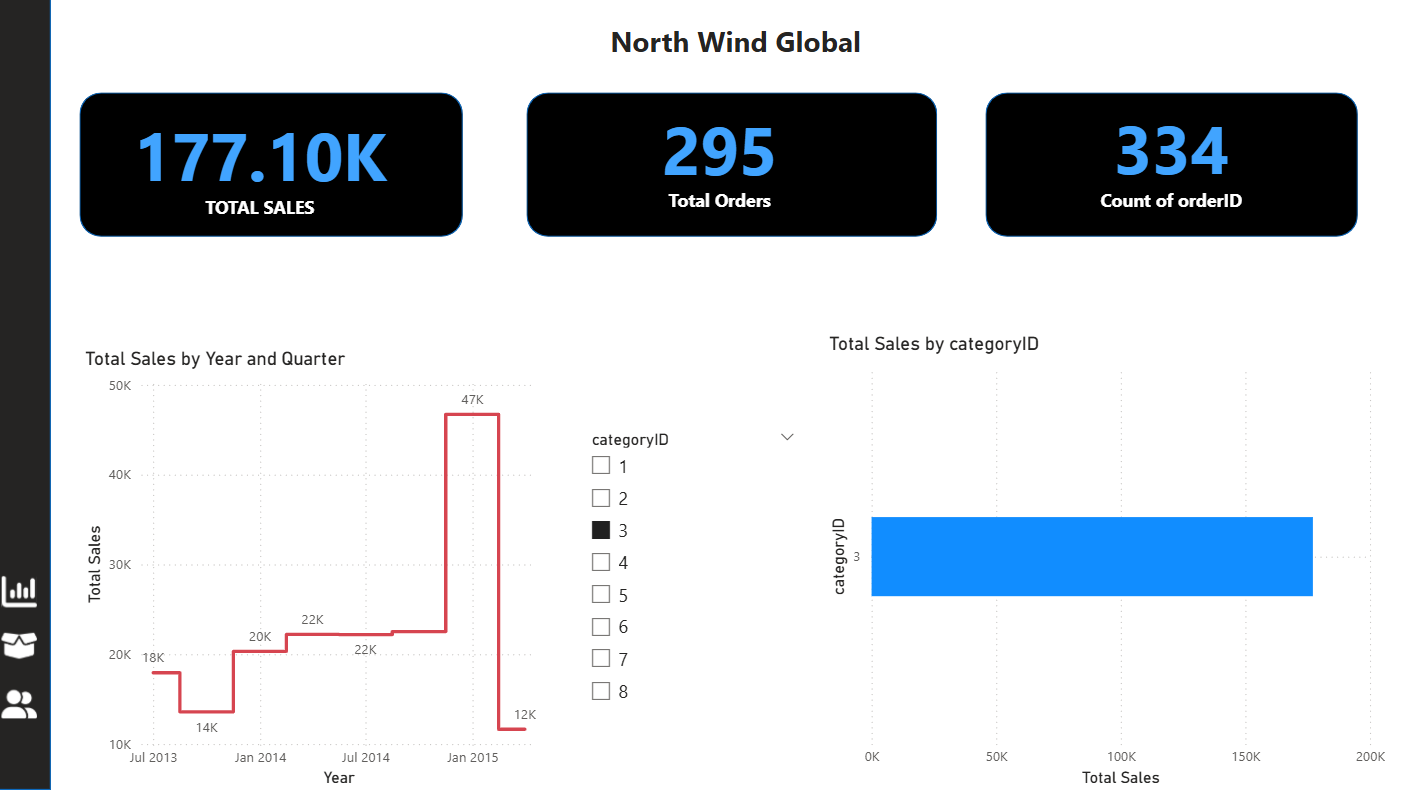

Layout of this report page (visuals, bound fields, positions):
{"tool":"powerbi","page":{"name":"Sales Overview","canvas":[1280,720],"ordinal":0},"visuals":[{"type":"shape","box":[75,90,345.5,130],"z":0,"group":"g1"},{"type":"lineChart","fields":{"Category":["orders.orderDate.Variation.Date Hierarchy.Year","orders.orderDate.Variation.Date Hierarchy.Quarter","orders.orderDate.Variation.Date Hierarchy.Month","orders.orderDate.Variation.Date Hierarchy.Day"],"Y":["order details.Total Sales"]},"box":[75,320,430,400],"z":0},{"type":"shape","box":[478.1,90,370.2,130],"z":1000,"group":"g1"},{"type":"barChart","fields":{"Category":["categories.categoryID"],"Y":["order details.Total Sales"]},"box":[744.4,307.4,511.1,413],"z":1000},{"type":"shape","box":[0,0,48.6,720],"z":2000},{"type":"shape","box":[891,90,335.6,130],"z":2000,"group":"g1"},{"type":"textbox","title":"North Wind Global","box":[484.4,26.7,363.3,38.9],"z":3000},{"type":"group","id":"g1","title":"KPI'S","box":[75,90,1151.7,130],"z":4000},{"type":"card","fields":{"Values":["order details.Total Sales"]},"box":[108.3,83.3,256.7,141.7],"z":5000},{"type":"card","fields":{"Values":["order details.Total Orders"]},"box":[493.3,65,315,168.3],"z":6000},{"type":"card","fields":{"Values":["CountNonNull(order details.orderID)"]},"box":[925,60,266.7,178.3],"z":7000},{"type":"slicer","fields":{"Values":["categories.categoryID"]},"box":[523.5,389.7,234.1,282.7],"z":8000},{"type":"actionButton","box":[0,568.6,100,40],"z":8001},{"type":"actionButton","box":[0,621.4,100,40],"z":8002},{"type":"actionButton","box":[0,520,100,40],"z":8003}]}

Visuals, with their boxes on the page's 1280x720 design canvas (x1, y1, x2, y2). These are canvas units, not pixel positions in the 1416x790 screenshot, which may show the page scaled, cropped or inside an application window:
shape: crop(75, 90, 420, 220)
lineChart - orders.orderDate.Variation.Date Hierarchy.Year x orders.orderDate.Variation.Date Hierarchy.Quarter: crop(75, 320, 505, 720)
shape: crop(478, 90, 848, 220)
barChart - categories.categoryID x order details.Total Sales: crop(744, 307, 1256, 720)
shape: crop(0, 0, 49, 720)
shape: crop(891, 90, 1227, 220)
"North Wind Global" textbox: crop(484, 27, 848, 66)
"KPI'S" group: crop(75, 90, 1227, 220)
card - order details.Total Sales: crop(108, 83, 365, 225)
card - order details.Total Orders: crop(493, 65, 808, 233)
card - CountNonNull(order details.orderID): crop(925, 60, 1192, 238)
slicer - categories.categoryID: crop(524, 390, 758, 672)
actionButton: crop(0, 569, 100, 609)
actionButton: crop(0, 621, 100, 661)
actionButton: crop(0, 520, 100, 560)
